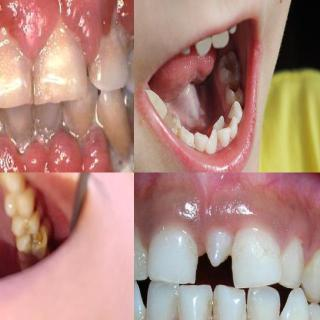Gum Swelling: (0, 127, 114, 172)
calculus: (37, 22, 88, 74), (60, 100, 102, 140), (29, 110, 66, 152), (3, 118, 35, 158), (101, 16, 130, 59), (102, 136, 134, 172), (0, 35, 22, 86), (129, 95, 134, 126)
cavities: (19, 228, 48, 258), (221, 58, 237, 76)
maligned: (233, 233, 285, 283), (198, 218, 240, 274), (284, 283, 309, 320), (193, 34, 211, 59), (205, 127, 219, 155), (210, 115, 227, 136), (216, 128, 232, 150)
plaque: (280, 238, 303, 286), (134, 230, 146, 278)
stains: (198, 295, 222, 320)
